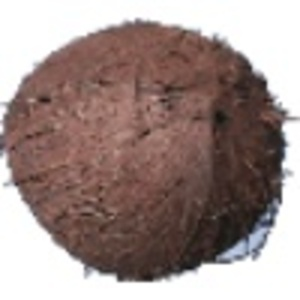coco: (1, 19, 289, 282)
